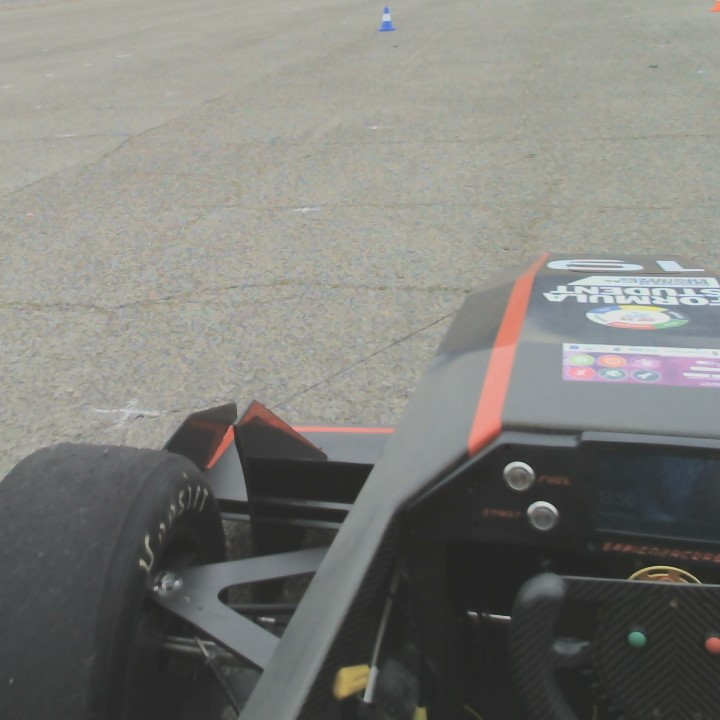cone: (379, 4, 395, 34)
